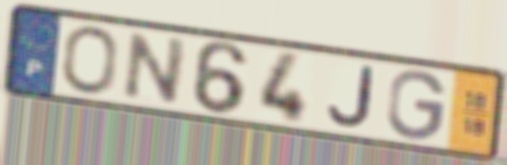4: (256, 49, 314, 128)
6: (189, 39, 251, 118)
G: (384, 68, 449, 142)
J: (325, 63, 378, 130)
N: (119, 30, 191, 107)
O: (61, 23, 120, 98)
